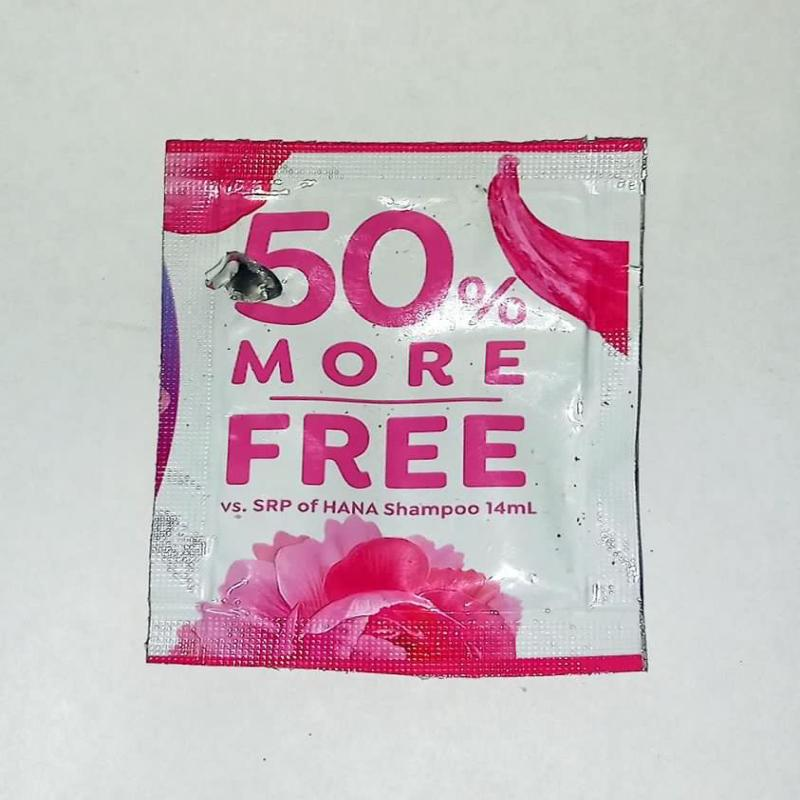plastic sachet: (142, 138, 649, 682)
